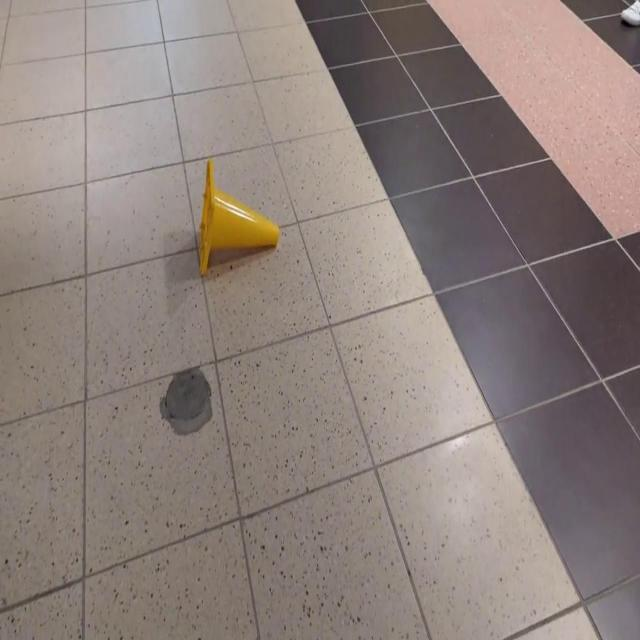frc_cone: (198, 156, 280, 279)
